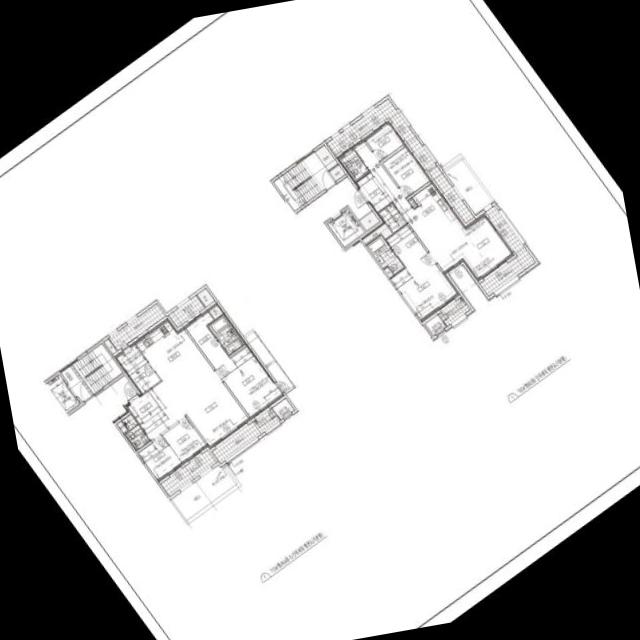background: (0, 0, 640, 640)
space_balconi: (326, 98, 473, 222), (479, 205, 535, 295), (211, 407, 279, 462), (244, 331, 292, 391), (108, 302, 165, 349), (160, 449, 216, 495), (168, 294, 204, 326), (438, 296, 470, 325)
space_bedroom: (215, 345, 283, 418), (390, 252, 459, 321), (382, 145, 430, 196), (162, 417, 207, 463), (137, 435, 182, 481), (364, 120, 404, 160)
space_dressroom: (184, 309, 229, 368), (386, 224, 427, 267)
space_elevator: (327, 208, 364, 246), (45, 373, 79, 412)
space_elevator_hall: (68, 374, 137, 441), (296, 176, 371, 231)
space_front: (354, 170, 392, 212), (125, 390, 161, 425)
space_kitchen: (134, 317, 200, 380), (412, 181, 460, 234)
space_living_room: (352, 138, 514, 280), (140, 352, 249, 447)
space_multipurpose_space: (114, 342, 160, 393)
space_other: (379, 203, 405, 231), (362, 222, 392, 243), (314, 144, 337, 169), (358, 210, 379, 230), (196, 287, 214, 306), (328, 164, 345, 180), (207, 302, 223, 318), (103, 338, 116, 353), (116, 420, 127, 432), (383, 266, 393, 277), (408, 197, 416, 207)
space_outdoor_room: (272, 397, 294, 418), (425, 314, 445, 335)
space_staircase: (273, 151, 335, 210), (61, 342, 122, 401)
space_toilet: (366, 234, 403, 273), (207, 314, 243, 354), (121, 413, 149, 449), (340, 149, 368, 179)
